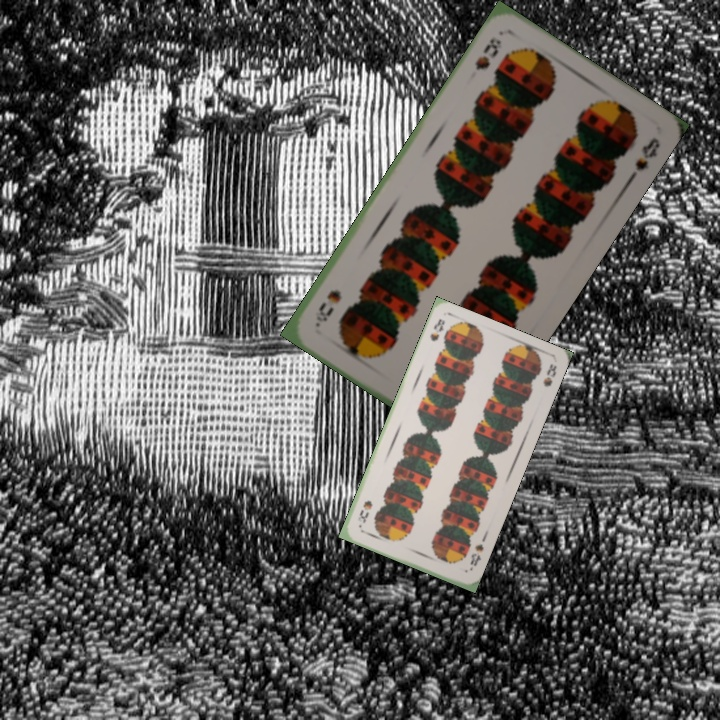S8: (471, 32, 505, 73), (426, 315, 448, 344), (466, 540, 486, 569)
